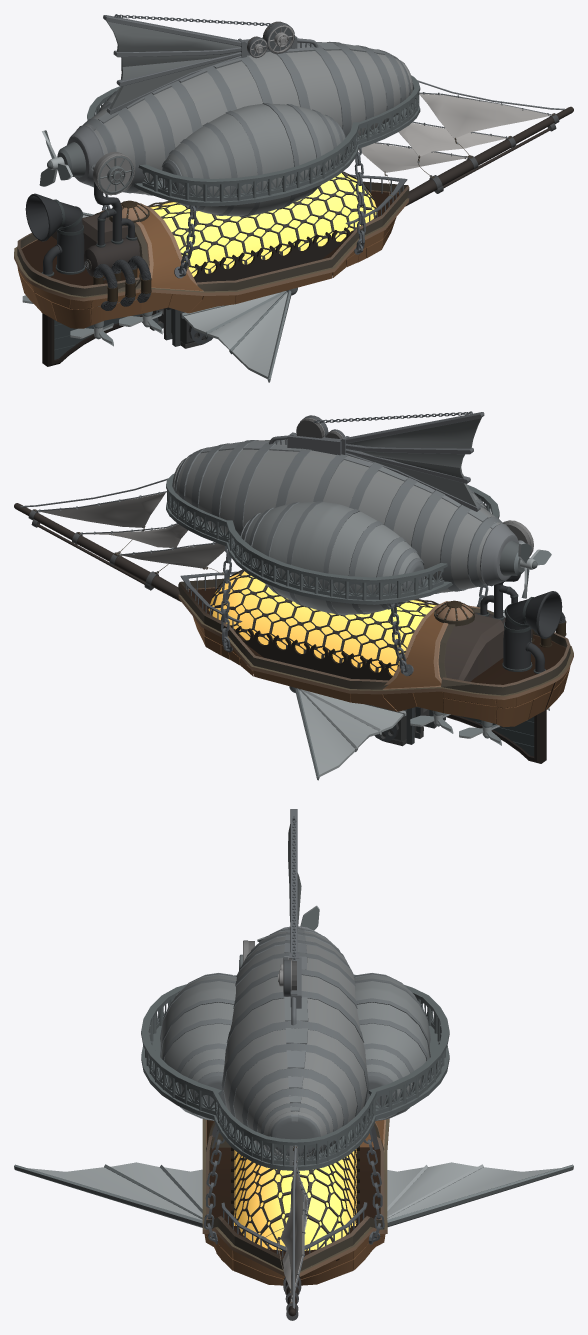
File: airship.glb
3 views of the same model, one above another, from view 1: azimuth 30°, elevation 25°; view 2: azimuth 150°, elevation 25°; view 3: azimuth 270°, elevation 25° (orthographic). The views are drawn at different scales.
Parts seen in each view (by area): view 1: polySurface24, polySurface31, polySurface2052, polySurface2265, polySurface712, polySurface605, polySurface2053, polySurface2073, pCube21, polySurface2064, polySurface2071, polySurface82 (+28 smaller); view 2: polySurface24, polySurface327, polySurface2052, polySurface2265, polySurface712, polySurface2073, polySurface2053, pCube64, polySurface2077, polySurface2071, polySurface82, pCube21 (+26 smaller); view 3: polySurface24, polySurface2265, polySurface31, polySurface327, polySurface2052, polySurface605, polySurface2506, polySurface2053, polySurface712, polySurface632, polySurface2524, polySurface2071 (+10 smaller).
Boxes of the visible parts, x1,y1,x2,y2 form: polySurface24: (82, 41, 412, 195); polySurface31: (161, 103, 345, 217); polySurface2052: (150, 173, 376, 276); polySurface2265: (87, 86, 359, 206); polySurface712: (17, 217, 396, 328); polySurface605: (181, 287, 297, 382); polySurface2053: (147, 171, 376, 273); polySurface2073: (17, 225, 363, 296); pCube21: (419, 93, 551, 138); polySurface2064: (188, 227, 350, 282); polySurface2071: (14, 190, 409, 301); polySurface82: (106, 21, 240, 52); polySurface24: (172, 440, 503, 593); polySurface327: (240, 501, 424, 615); polySurface2052: (208, 571, 436, 675); polySurface2265: (226, 485, 499, 604); polySurface712: (193, 617, 569, 727); polySurface2073: (223, 622, 570, 695); polySurface2053: (208, 569, 439, 672); pCube64: (444, 614, 504, 681); polySurface2077: (235, 626, 398, 680); polySurface2071: (178, 587, 573, 699); polySurface82: (347, 418, 481, 448); pCube21: (40, 492, 165, 527); polySurface24: (221, 927, 369, 1158); polySurface2265: (141, 974, 449, 1120); polySurface31: (160, 973, 236, 1120); polySurface327: (354, 973, 430, 1120); polySurface2052: (234, 1149, 356, 1250); polySurface605: (14, 1162, 202, 1227); polySurface2506: (213, 1091, 376, 1170); polySurface2053: (234, 1150, 356, 1250); polySurface712: (204, 1233, 385, 1285); polySurface632: (207, 1147, 382, 1260); polySurface2524: (387, 1167, 559, 1219); polySurface2071: (202, 1118, 389, 1276).
Size of the model in its own units: 20.55 by 12.05 by 15.78.
